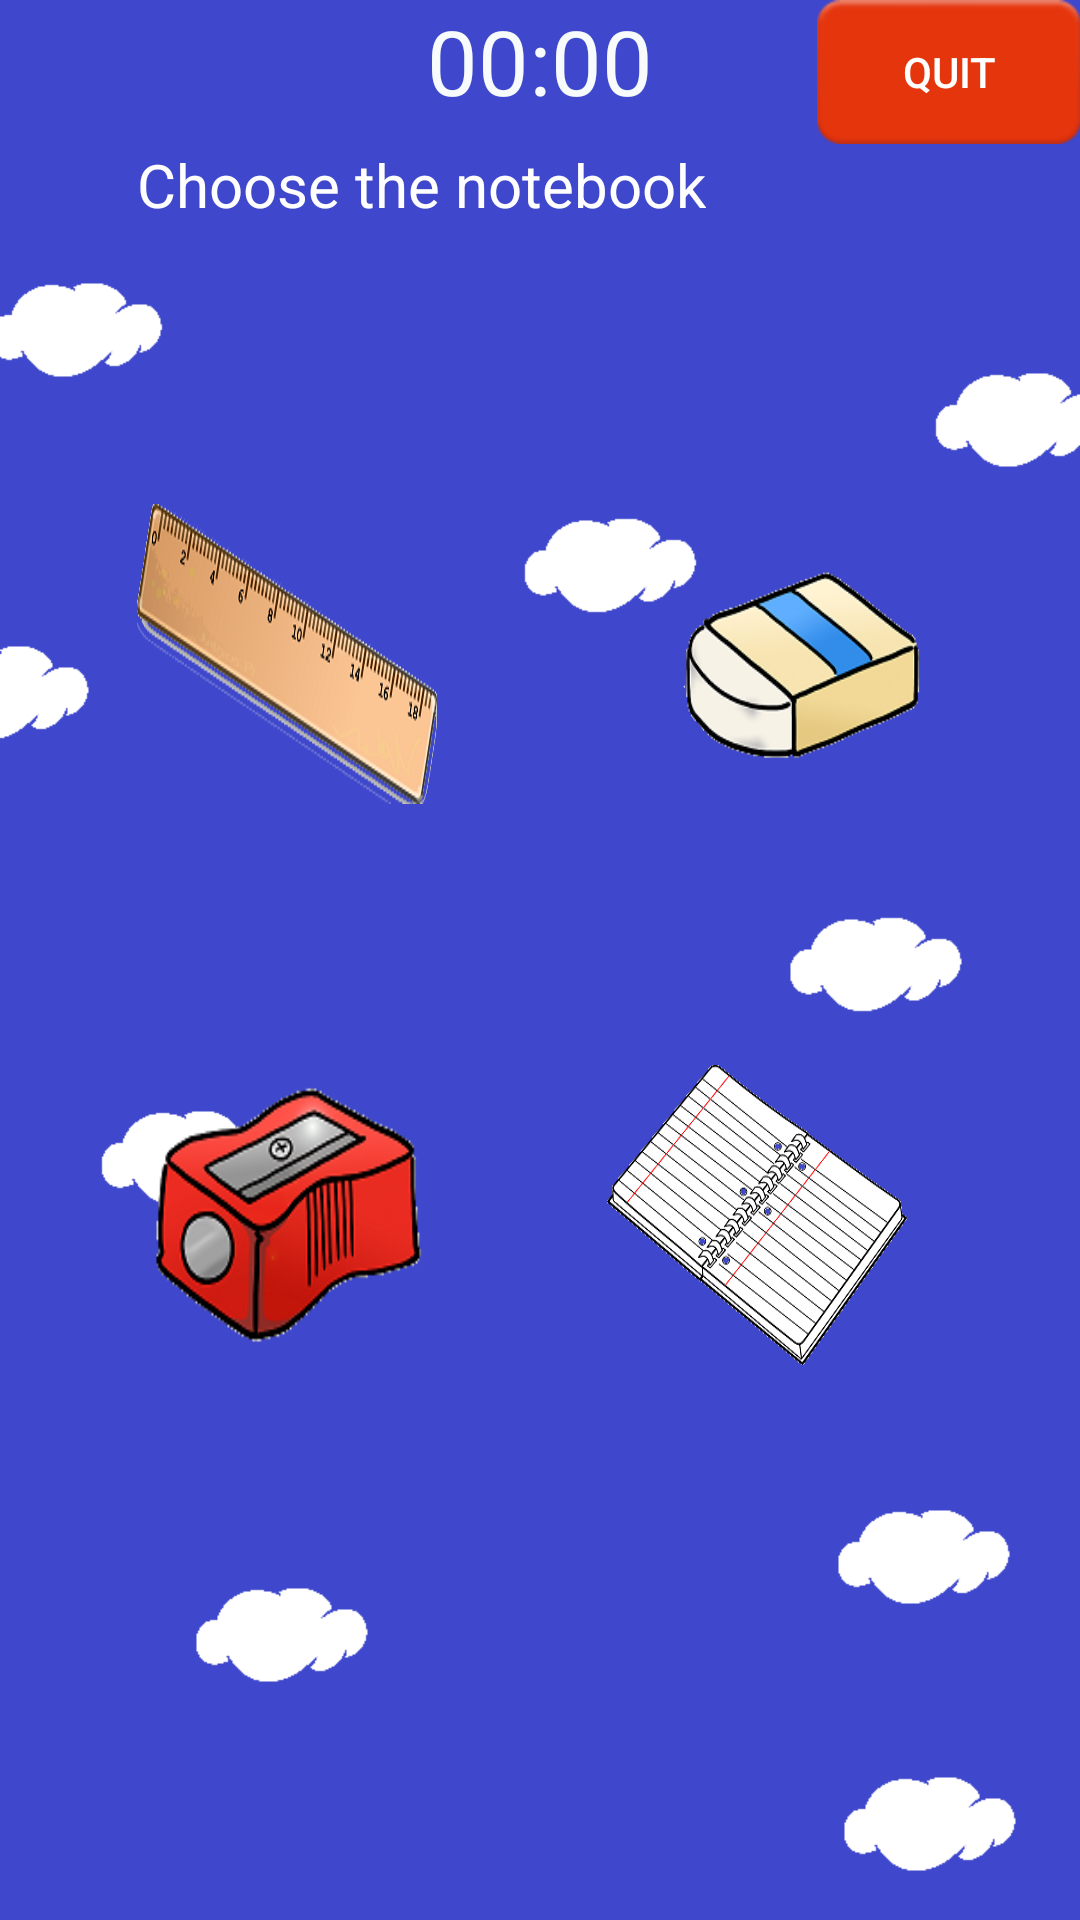

Where to tap for icons on this 1080w x 1920h app screen, as (x=x, y=y):
eraser: (x=801, y=665)
notebook: (x=757, y=1215)
pencil sharpener: (x=279, y=1215)
ruler: (x=287, y=654)
